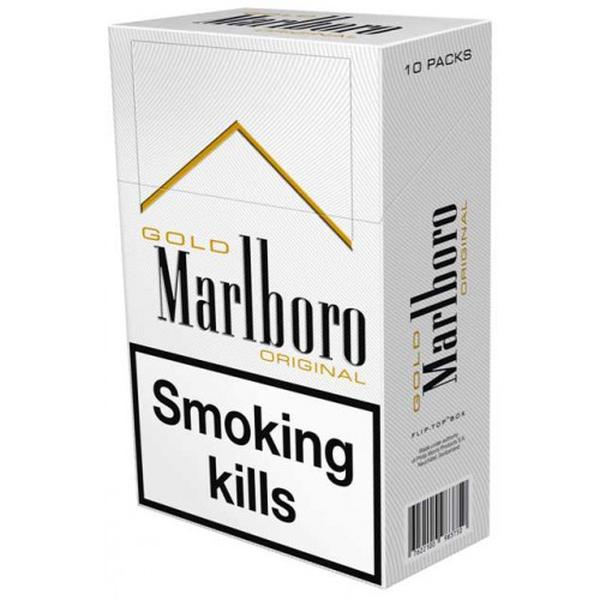marlboro_gold: (127, 31, 387, 504)
